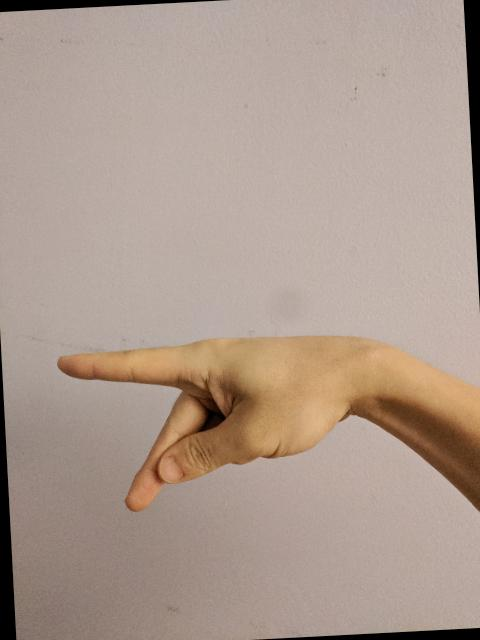P: (53, 323, 368, 522)
